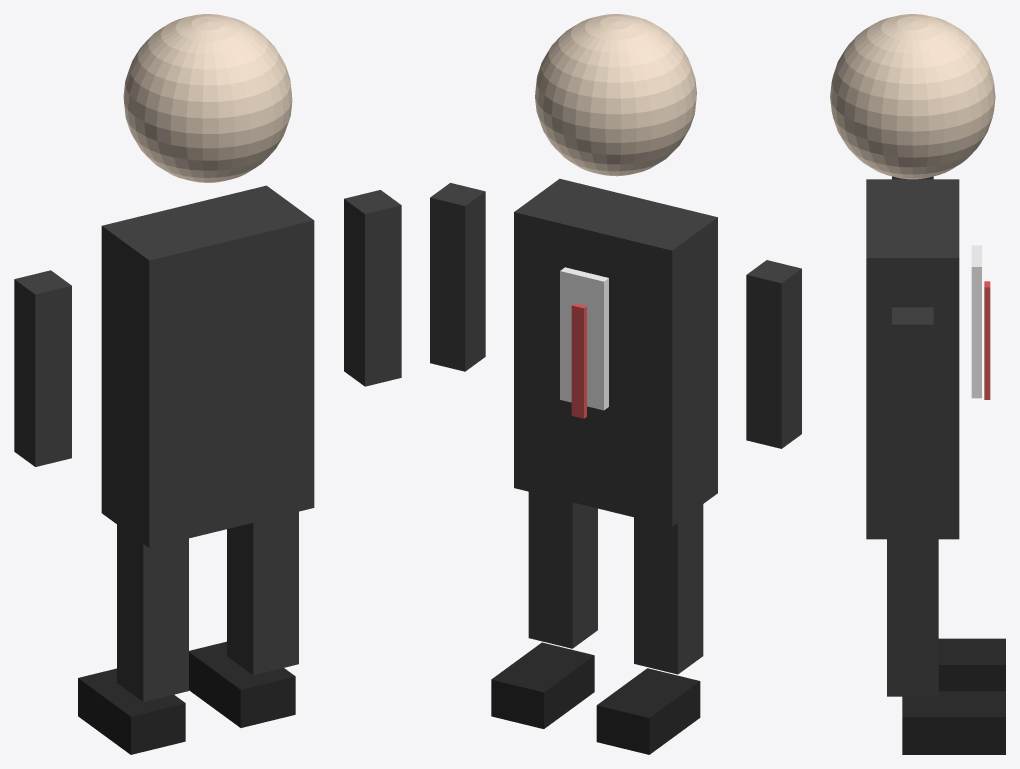
File: Hitman.glb
3 views of the same model, side by side, from view 1: azimuth 30°, elevation 25°; view 2: azimuth 150°, elevation 25°; view 3: azimuth 270°, elevation 25° (orthographic). The views are drawn at different scales.
Visible parts, largest first — view 1: Cube, Sphere, Cube.005, Cube.003, Cube.004, Cube.006, Cube.007, Cube.008; view 2: Cube, Sphere, Cube.005, Cube.003, Cube.004, Cube.006, Cube.007, Cube.008, Cube.001, Cube.002; view 3: Cube, Sphere, Cube.006, Cube.004, Cube.008, Cube.007, Cube.001, Cube.002.
Boxes of the visible parts, x1,y1,x2,y2 form: Cube: (101,185,314,547); Sphere: (123,14,292,182); Cube.005: (117,524,188,701); Cube.003: (14,270,71,466); Cube.004: (344,190,401,386); Cube.006: (227,511,298,675); Cube.007: (78,668,185,754); Cube.008: (189,641,295,727); Cube: (514,178,717,526); Sphere: (535,14,696,176); Cube.005: (634,504,703,674); Cube.003: (746,260,801,448); Cube.004: (430,183,485,371); Cube.006: (528,492,597,648); Cube.007: (596,668,700,754); Cube.008: (491,642,594,728); Cube.001: (560,267,608,410); Cube.002: (571,303,586,418); Cube: (866,179,959,539); Sphere: (830,14,995,179); Cube.006: (887,539,938,696); Cube.004: (892,307,933,493); Cube.008: (902,691,1005,754); Cube.007: (938,638,1005,691); Cube.001: (971,245,981,398); Cube.002: (984,281,990,399).
Size of the model in its own units: 2 by 3.7 by 0.85.
